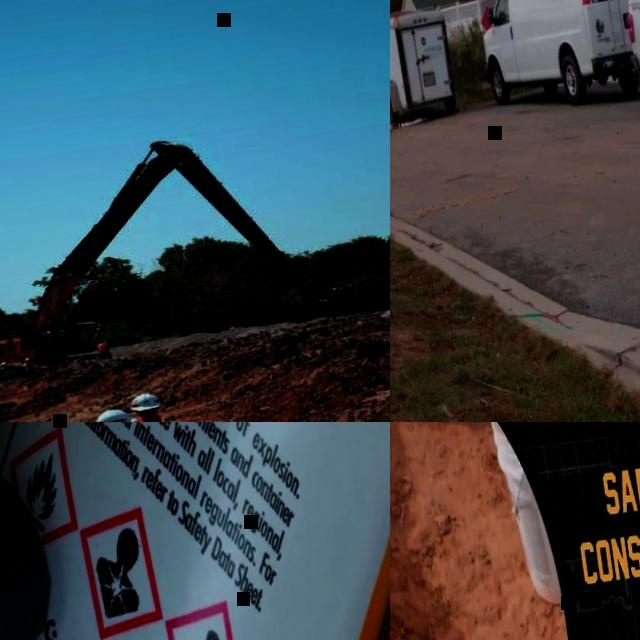Hardhat: (89, 405, 138, 422), (130, 391, 162, 413), (102, 339, 108, 342), (98, 323, 102, 326)
NO-Mask: (139, 412, 161, 421)
Person: (118, 382, 245, 422), (96, 338, 112, 360), (92, 322, 108, 343)
Safety Vest: (98, 342, 109, 352), (95, 326, 105, 335)
machinery: (0, 115, 362, 374)
vehicle: (469, 0, 640, 120)
